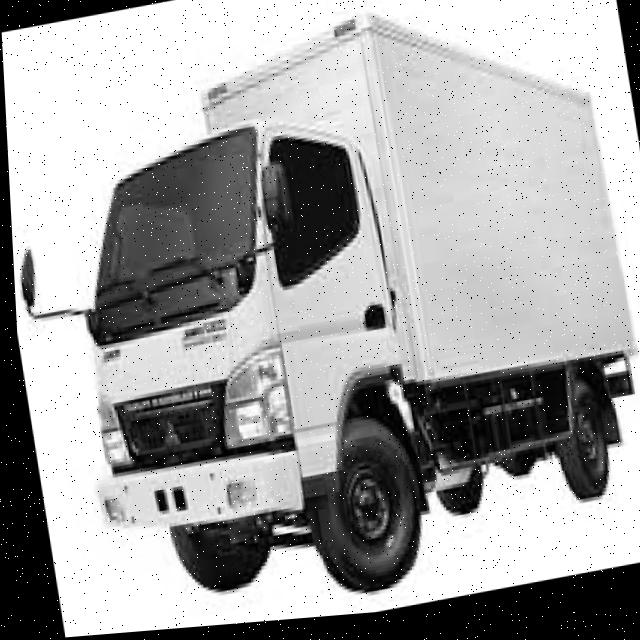truck: (5, 85, 437, 588)
